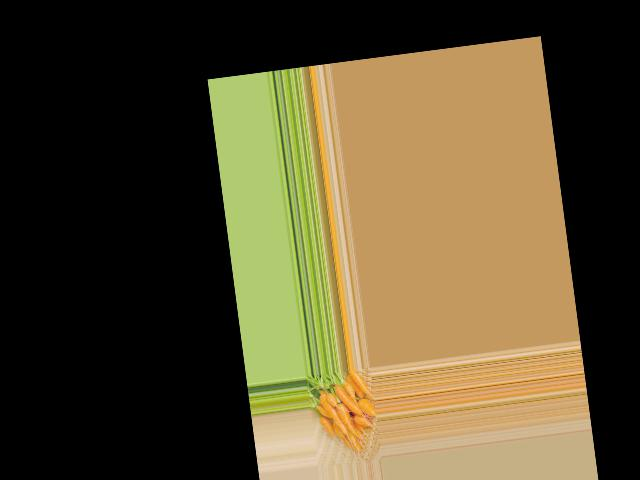carrot: (315, 406, 331, 422)
